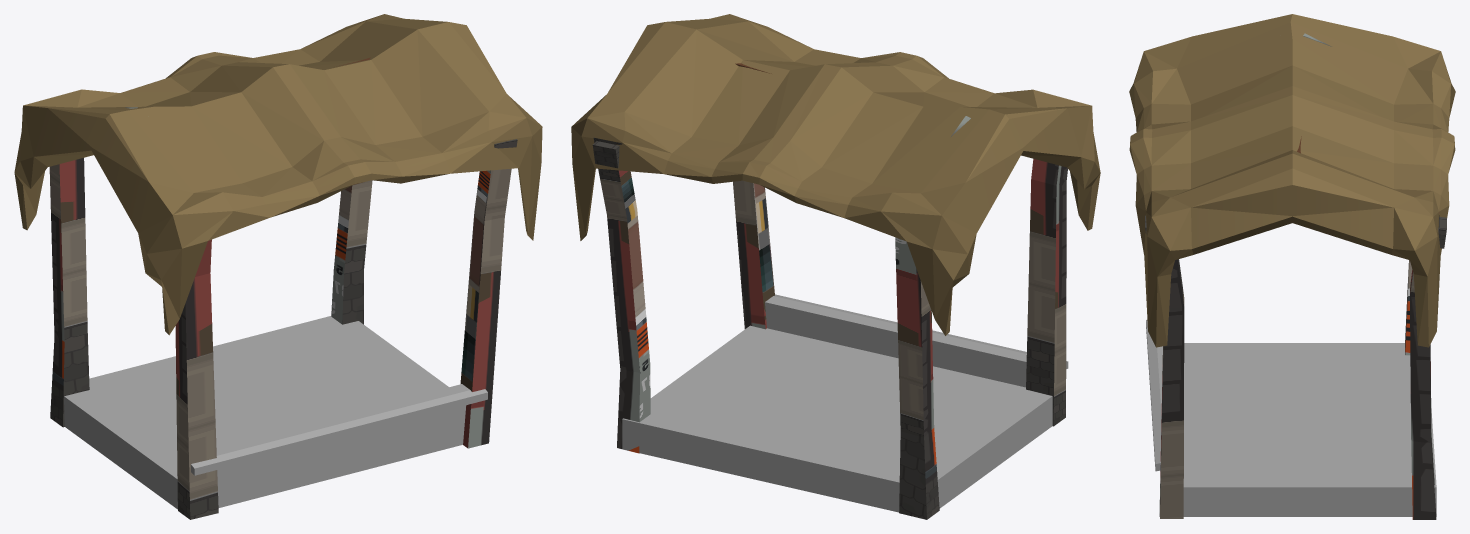
The model's file is stall.fbx.
3 views of the same model, side by side, from view 1: azimuth 30°, elevation 25°; view 2: azimuth 150°, elevation 25°; view 3: azimuth 270°, elevation 25° (orthographic).
Parts seen in each view (by area): view 1: polySurface7; view 2: polySurface7; view 3: polySurface7.
Part boxes in pixels (x1,y1,x2,y2): polySurface7: [14, 14, 542, 519]; polySurface7: [571, 14, 1100, 519]; polySurface7: [1129, 14, 1455, 519].
Size of the model in its own units: 3.54 by 3.12 by 2.54.
2 materials, 1 textured.
